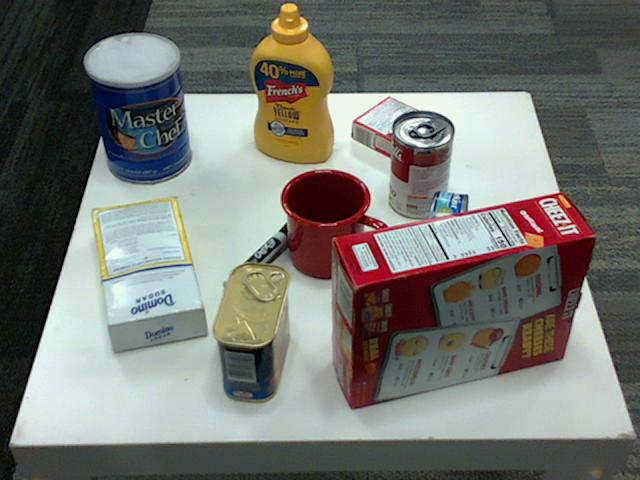cracker_box: (332, 190, 594, 406)
gelatin_box: (354, 96, 444, 162)
large_marker: (220, 220, 299, 299)
master_chef_can: (82, 33, 189, 184)
mug: (279, 165, 388, 275)
mustard_bottle: (249, 4, 333, 162)
potted_meat_can: (212, 262, 291, 402)
sugar_box: (91, 193, 205, 346)
tomato_soup_can: (388, 111, 453, 219)
tuna_fish_can: (422, 189, 468, 274)
